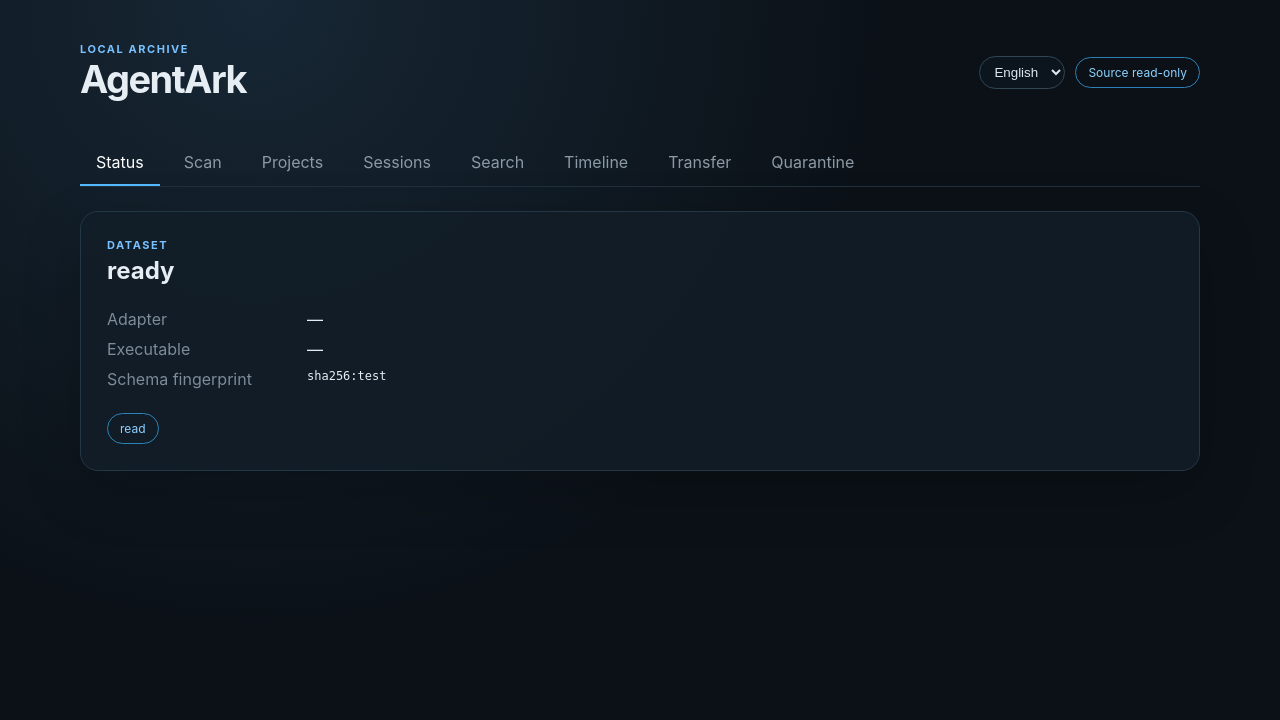
Test case: codex restore reports automatic recovery outcomes without a native-target choice
Expected: the heading "ready" is shown, [107, 256, 174, 285]
Step 1. Click the button "Transfer" → click(700, 163), box [652, 140, 747, 186]
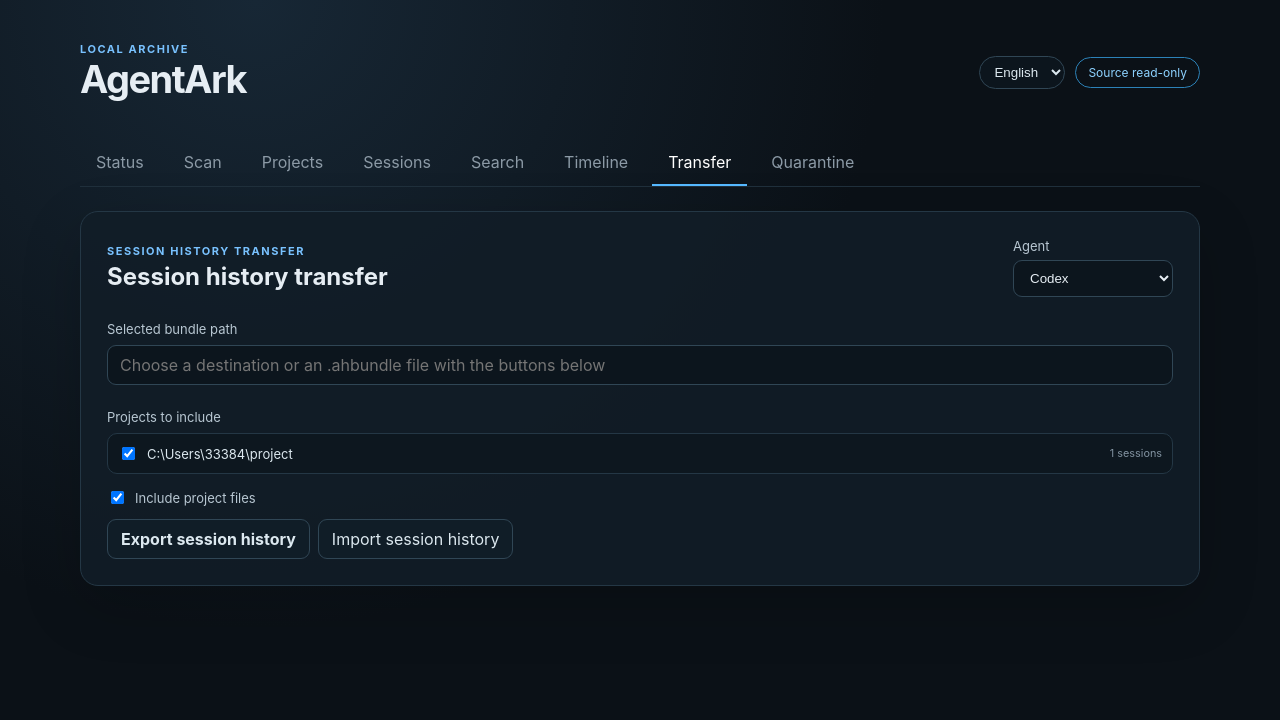
Step 2. Click the button "Import session history" → click(416, 539), box [318, 519, 513, 559]
(page scrolled)
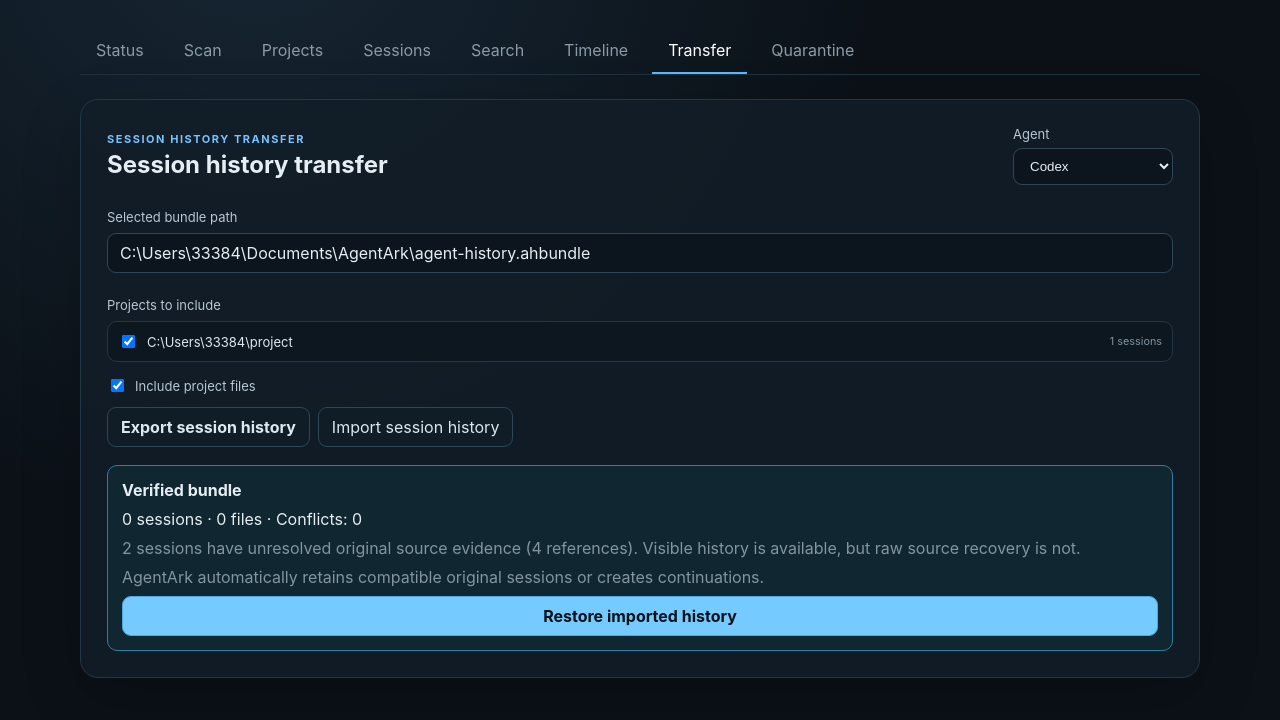
Step 3. Click the button "Restore imported history" → click(640, 616), box [122, 596, 1158, 636]
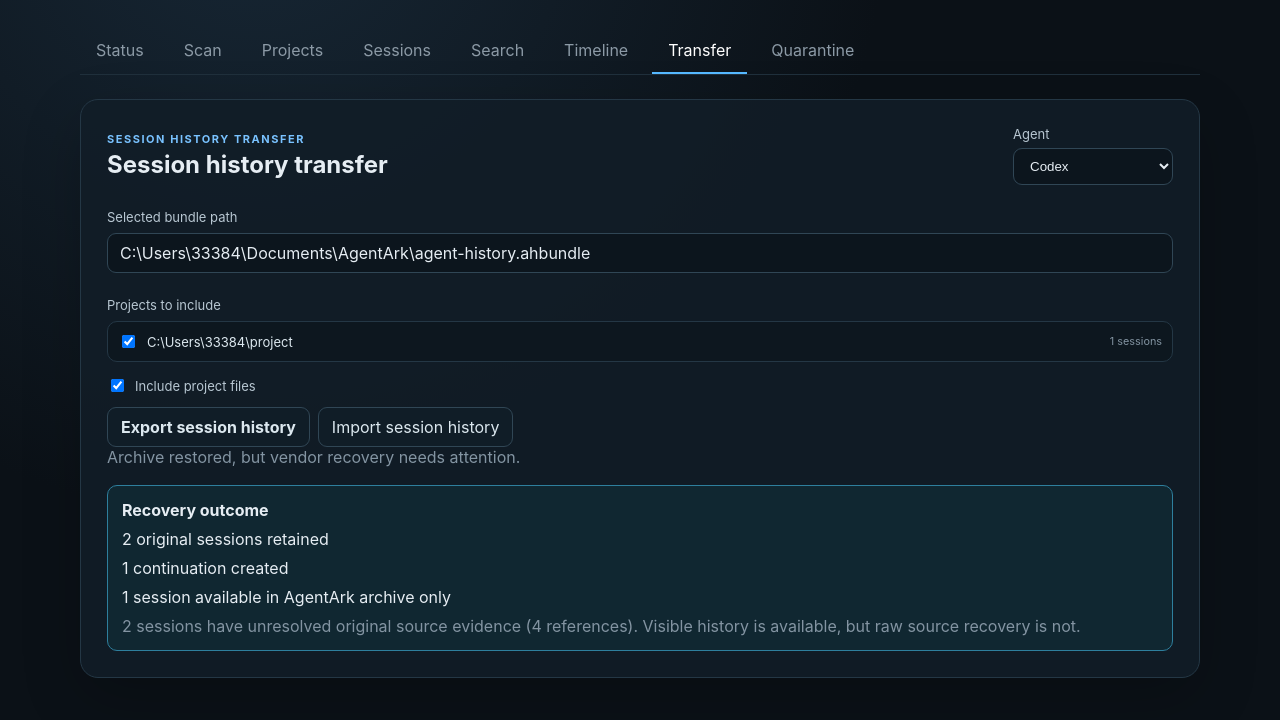
Expected: the text "2 original sessions retained" is shown, [122, 529, 329, 549]
Expected: the text "1 continuation created" is shown, [122, 558, 288, 578]
Expected: the text "1 session available in AgentArk archive only" is shown, [122, 587, 451, 607]
